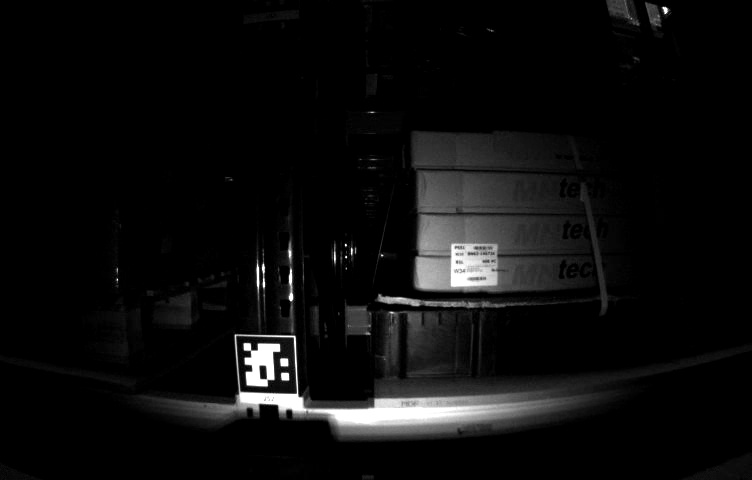True Barcode: (446, 239, 500, 287)
